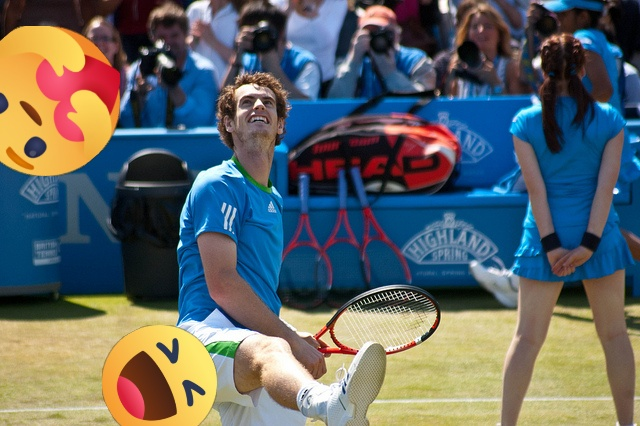care: (0, 26, 120, 176)
haha: (102, 325, 217, 426)
